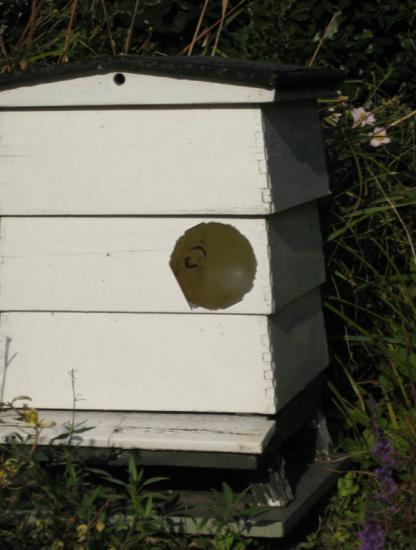Grape: (171, 221, 260, 310)
